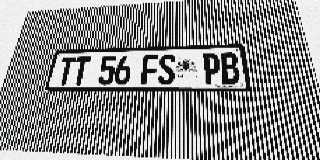5: (98, 56, 117, 85)
6: (114, 55, 132, 85)
B: (220, 52, 241, 84)
F: (141, 55, 159, 85)
P: (202, 53, 222, 84)
S: (158, 54, 175, 85)
T: (71, 56, 91, 85), (56, 57, 76, 85)
